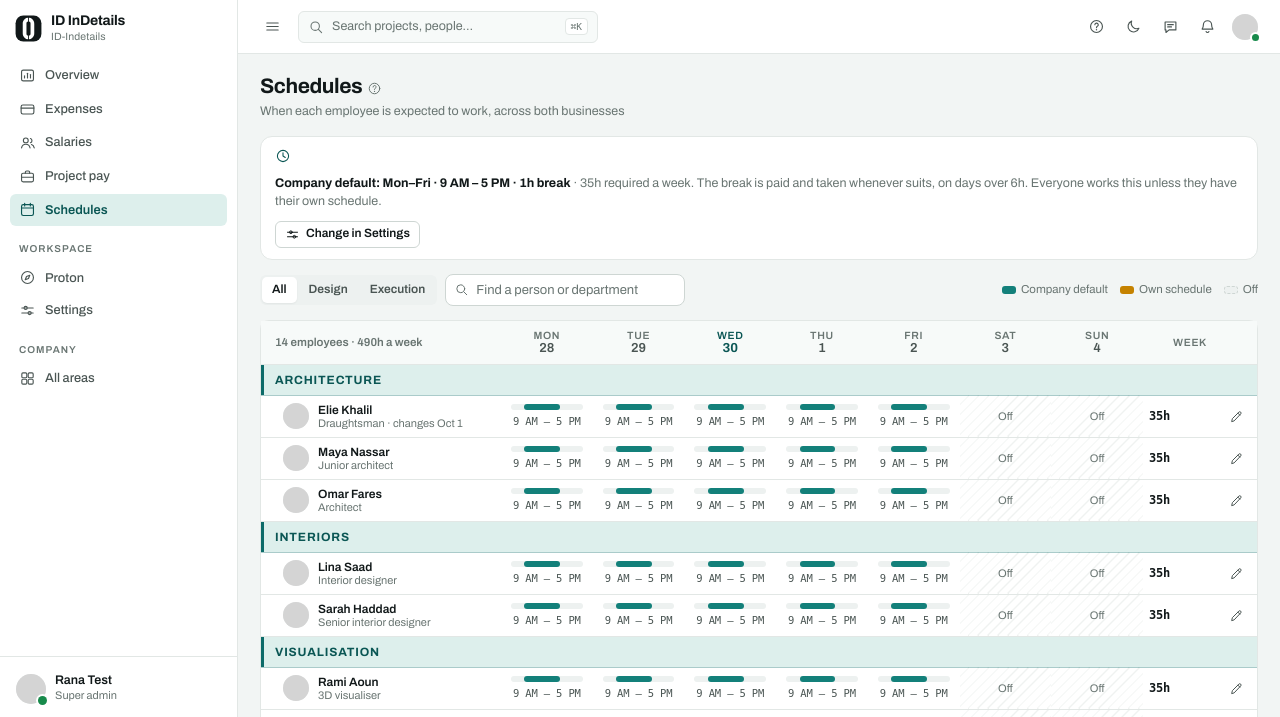
Schedules › say that a change saved for the day one is already set replaces it
Click the button named "Edit Elie Khalil's schedule" at [1236, 416], box [1219,403,1254,430]
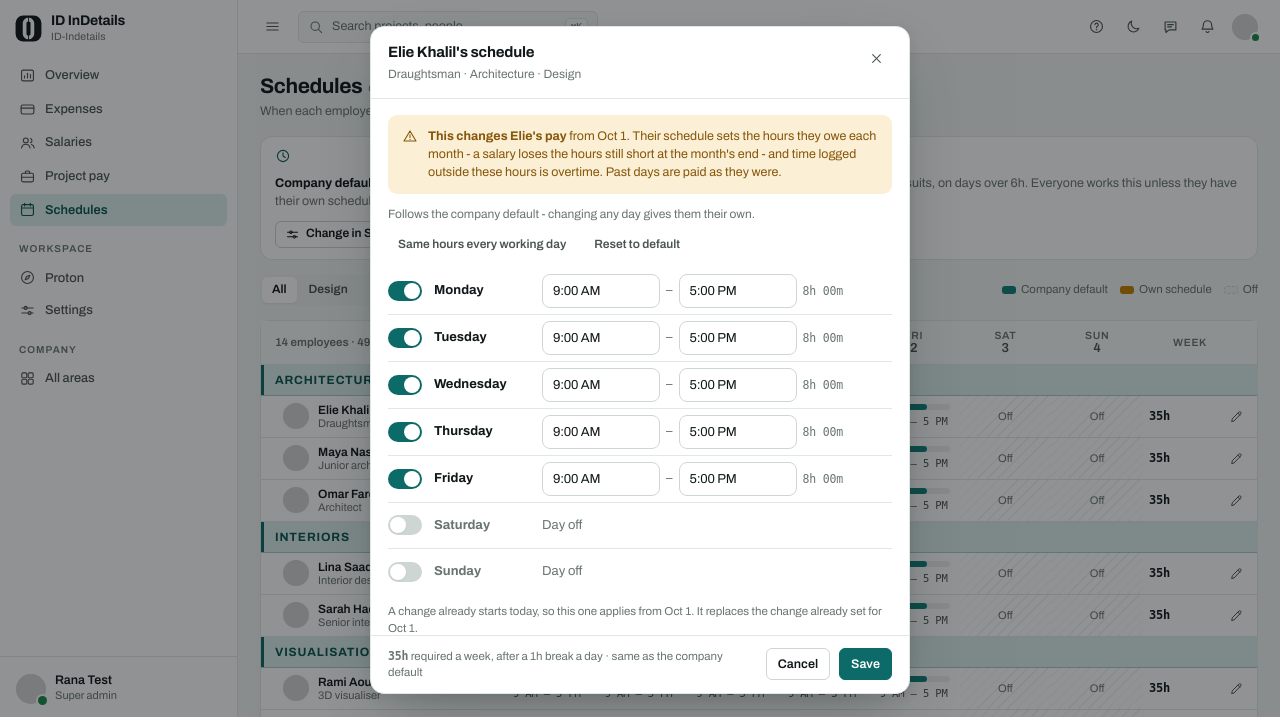
Expected: the text "It replaces the change already set for Oct 1." is shown, [388,605,882,634]
